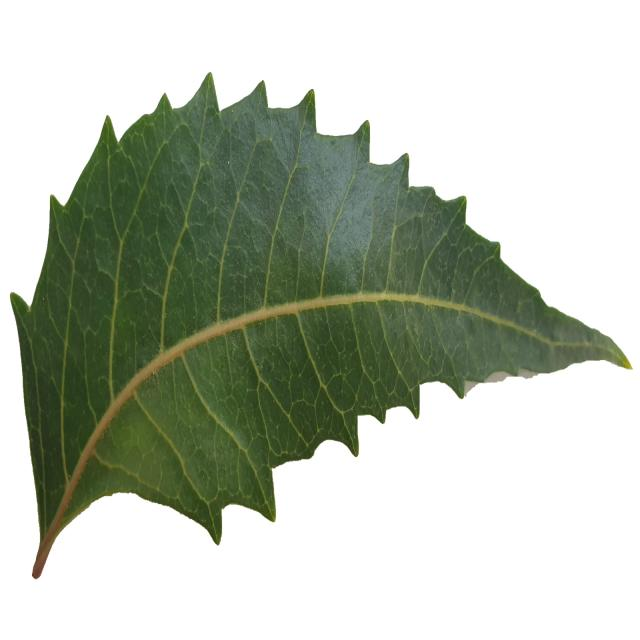Medicinal-Neem: (6, 66, 633, 580)
